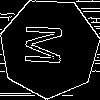M: (24, 23, 71, 67)
